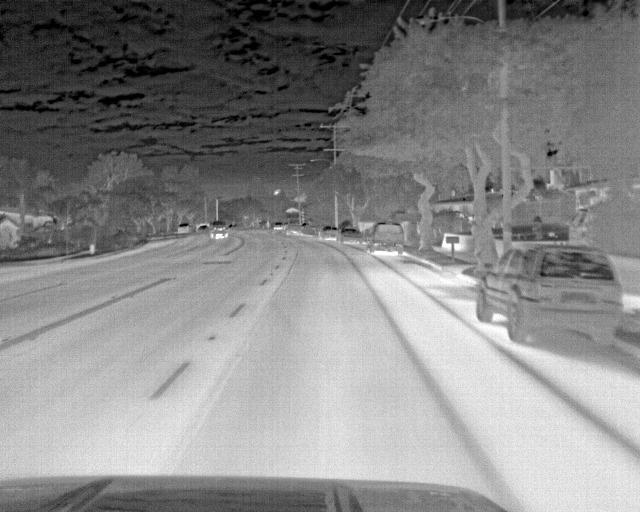car: (476, 243, 624, 352), (368, 222, 406, 254), (337, 224, 363, 245), (209, 220, 231, 241), (317, 224, 341, 243), (177, 222, 195, 235), (273, 221, 286, 233)
